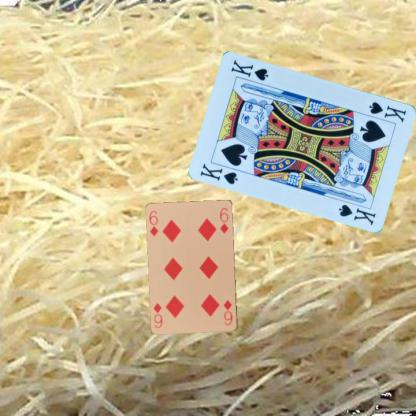6d: (221, 298, 234, 326), (147, 208, 159, 237)
Ks: (366, 98, 408, 124), (198, 160, 240, 186)
